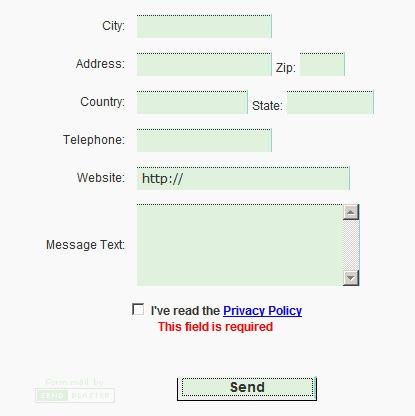button: (174, 374, 318, 402)
checkbox_with_label: (127, 299, 303, 317)
field: (133, 203, 361, 287), (134, 165, 352, 191), (132, 13, 274, 39), (132, 127, 273, 152), (133, 51, 272, 76), (133, 89, 249, 115), (282, 90, 374, 114), (296, 52, 345, 75)
field_with_label: (46, 201, 362, 290), (75, 164, 354, 192), (62, 126, 275, 153), (75, 50, 274, 78), (102, 11, 275, 41), (81, 87, 251, 117), (255, 89, 376, 116), (275, 50, 347, 77)
radio: (130, 302, 147, 316)
